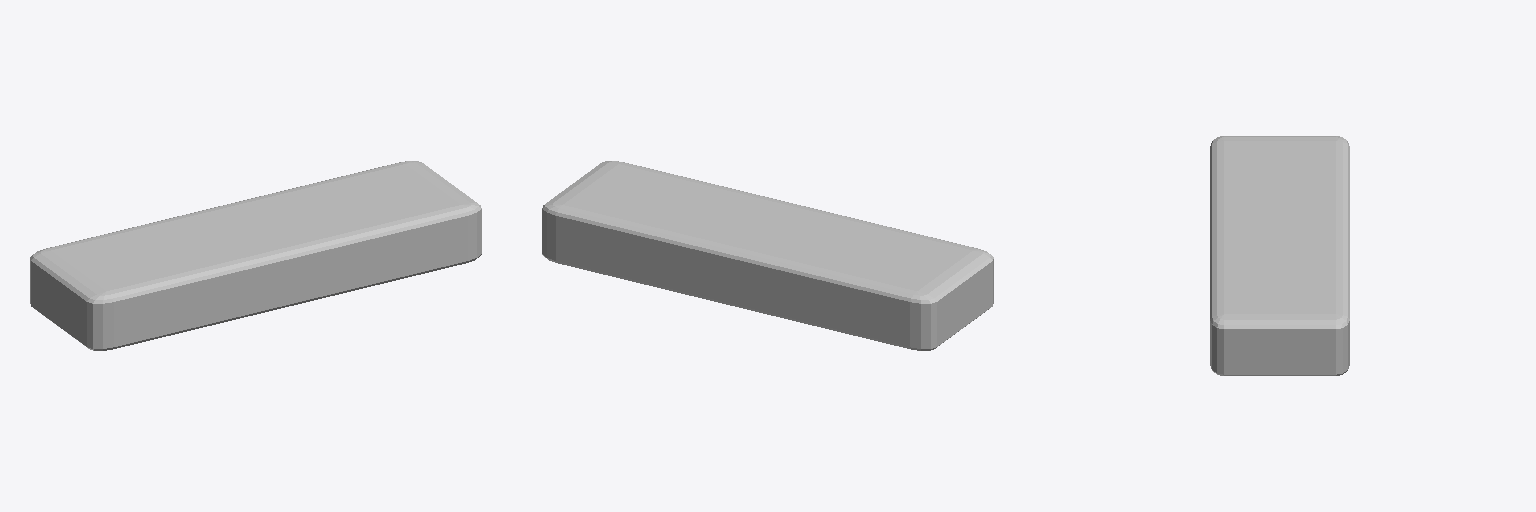
The model's file is Long.obj.
The picture shows the model from 3 angles: view 1: azimuth 30°, elevation 25°; view 2: azimuth 150°, elevation 25°; view 3: azimuth 270°, elevation 25°; orthographic projection.
Visible parts, largest first — view 1: mesh_1, mesh_0; view 2: mesh_1, mesh_0; view 3: mesh_1, mesh_0.
Part boxes in pixels (left/top/right/bottom): mesh_1: left=30, top=161, right=481, bottom=314; mesh_0: left=30, top=220, right=481, bottom=350; mesh_1: left=542, top=161, right=993, bottom=314; mesh_0: left=542, top=220, right=993, bottom=350; mesh_1: left=1210, top=136, right=1349, bottom=340; mesh_0: left=1210, top=332, right=1349, bottom=375.
Size of the model in its own units: 20.13 by 2.77 by 6.18.